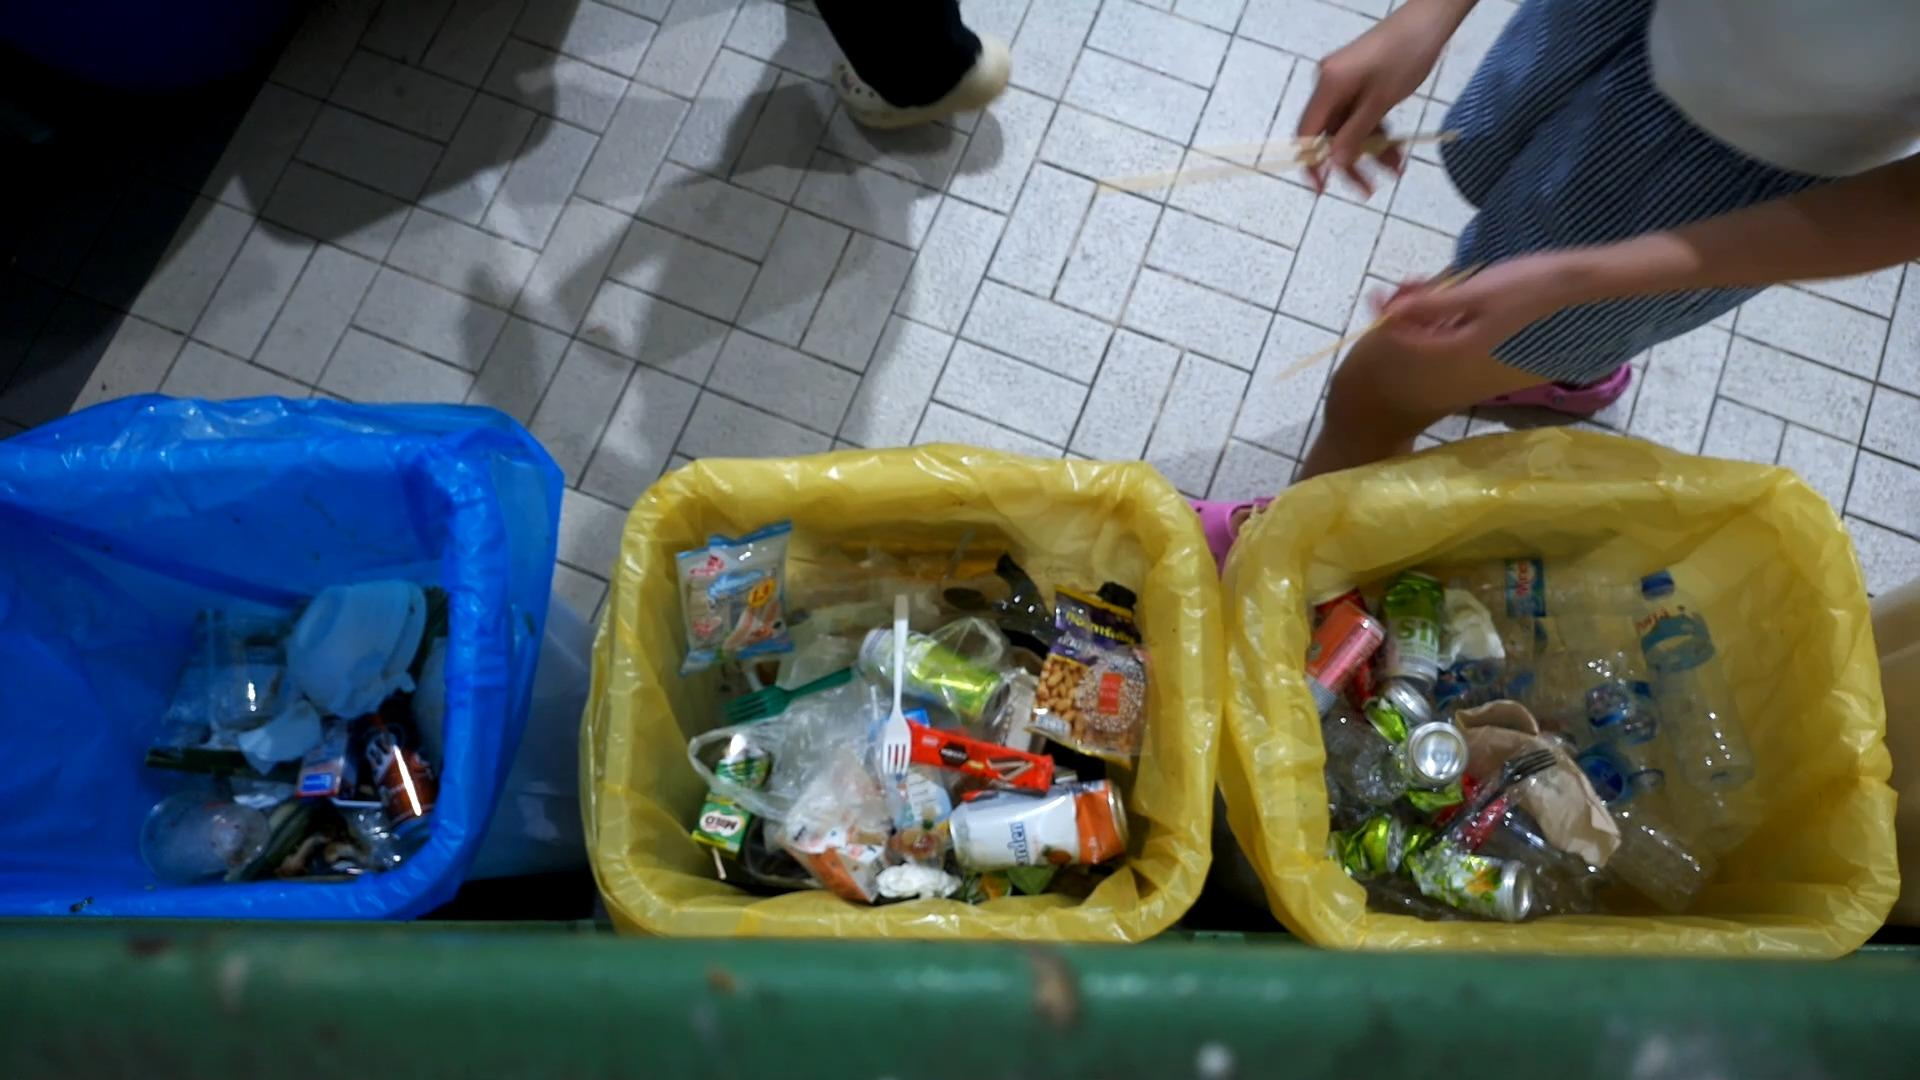can: (945, 777, 1134, 873), (858, 612, 1007, 719), (1403, 819, 1538, 923), (357, 700, 440, 836), (1304, 595, 1383, 727), (1378, 572, 1456, 691), (1394, 719, 1470, 794), (1360, 674, 1432, 750), (1331, 811, 1402, 877)
food container: (285, 580, 429, 717)
milk carton: (676, 737, 777, 864), (289, 713, 356, 808)
plastic bag: (711, 599, 902, 857)
plastic bottle: (1547, 571, 1684, 807), (1412, 765, 1613, 918), (1634, 564, 1763, 796), (1418, 555, 1652, 624), (1315, 709, 1419, 810), (872, 603, 922, 796)
plastic cutlery: (709, 661, 853, 732)
snack packaging: (669, 517, 800, 686), (1027, 584, 1147, 769), (899, 708, 1055, 800), (803, 828, 898, 907)
sticks: (1263, 252, 1497, 390), (1081, 120, 1469, 200)
tissue paper: (1456, 698, 1636, 886), (330, 641, 419, 719), (235, 698, 327, 769), (1427, 589, 1506, 667), (869, 858, 971, 905)
